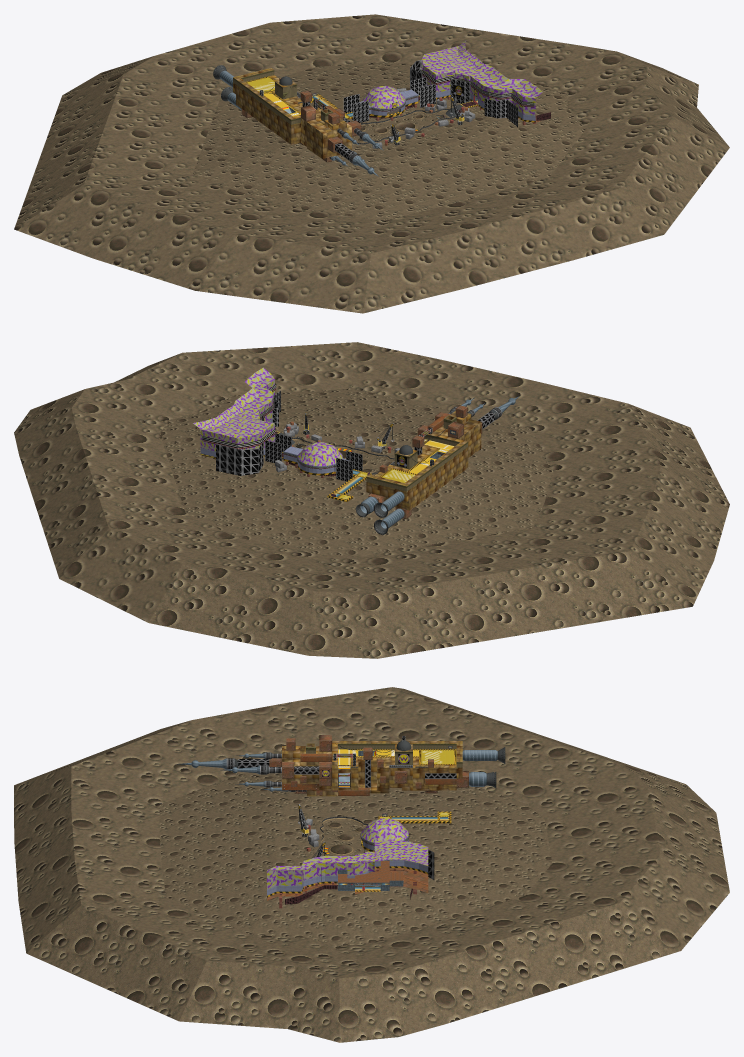
The picture shows the model from 3 angles, top to bottom: view 1: azimuth 30°, elevation 25°; view 2: azimuth 150°, elevation 25°; view 3: azimuth 270°, elevation 25°; orthographic projection. The views are drawn at different scales.
Visible parts, largest first — view 1: Moon, Camo, bd2WS, Girder2, Rust, bd2WS2, Beam1, Wire, _2Metal, Caution, Container; view 2: Moon, Camo, bd2WS, Girder2, bd2WS2, Rust, Beam1, Wire, Duct, Caution, _2Metal, Container; view 3: Moon, Rust, bd2WS, Camo, Beam1, Caution, bd2WS2, _2Metal, Trussframe.
Part boxes in pixels (<box>): Moon: <box>14,14,729,313</box>; Camo: <box>363,40,542,115</box>; bd2WS: <box>233,68,351,158</box>; Girder2: <box>259,59,517,145</box>; Rust: <box>241,78,540,162</box>; bd2WS2: <box>233,70,332,124</box>; Beam1: <box>219,70,383,176</box>; Wire: <box>290,63,534,158</box>; _2Metal: <box>359,85,535,120</box>; Caution: <box>246,76,535,134</box>; Container: <box>372,88,475,148</box>; Moon: <box>14,342,729,658</box>; Camo: <box>193,367,342,466</box>; bd2WS: <box>366,411,481,510</box>; Girder2: <box>216,390,433,481</box>; bd2WS2: <box>366,415,468,491</box>; Rust: <box>368,405,482,519</box>; Beam1: <box>360,395,520,528</box>; Wire: <box>202,383,496,469</box>; Duct: <box>278,409,498,534</box>; Caution: <box>200,412,440,501</box>; _2Metal: <box>200,418,348,473</box>; Container: <box>275,422,399,472</box>; Moon: <box>14,687,729,1042</box>; Rust: <box>267,735,468,900</box>; bd2WS: <box>282,741,462,796</box>; Camo: <box>267,818,428,889</box>; Beam1: <box>177,750,497,791</box>; Caution: <box>267,749,456,897</box>; bd2WS2: <box>306,743,462,767</box>; _2Metal: <box>267,834,428,895</box>; Trussframe: <box>238,759,456,787</box>.
Bounding box in the file's own units: 323207 × 40585 × 271454.
45 materials, 45 textured.
